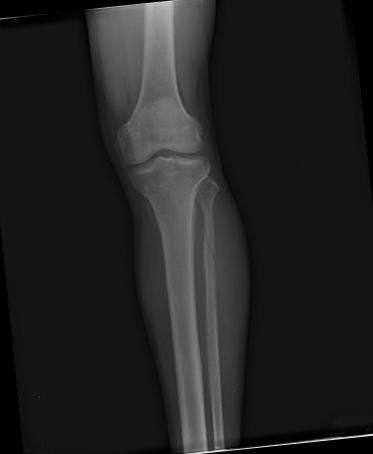fractured: (202, 220, 218, 266)
